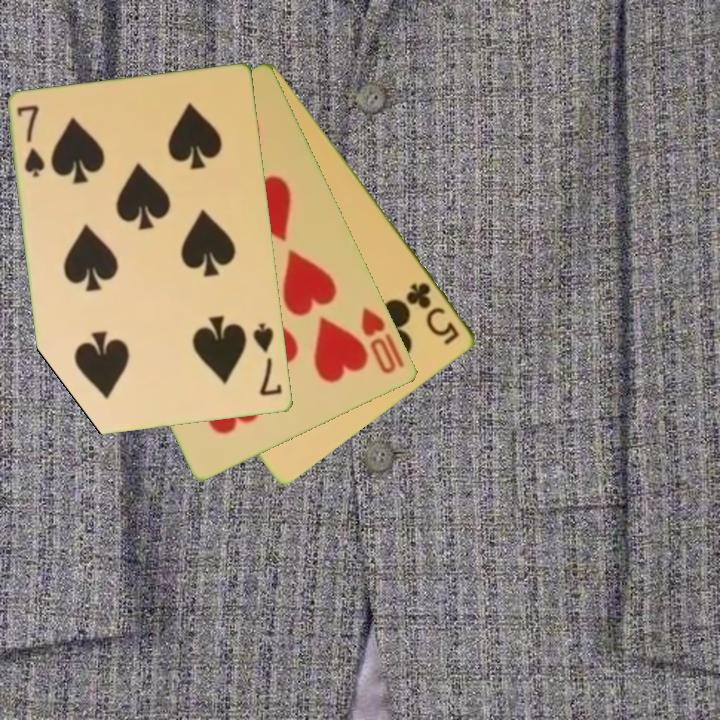10h: (358, 303, 408, 377)
5c: (403, 279, 463, 348)
7s: (250, 320, 285, 399), (14, 102, 49, 181)
